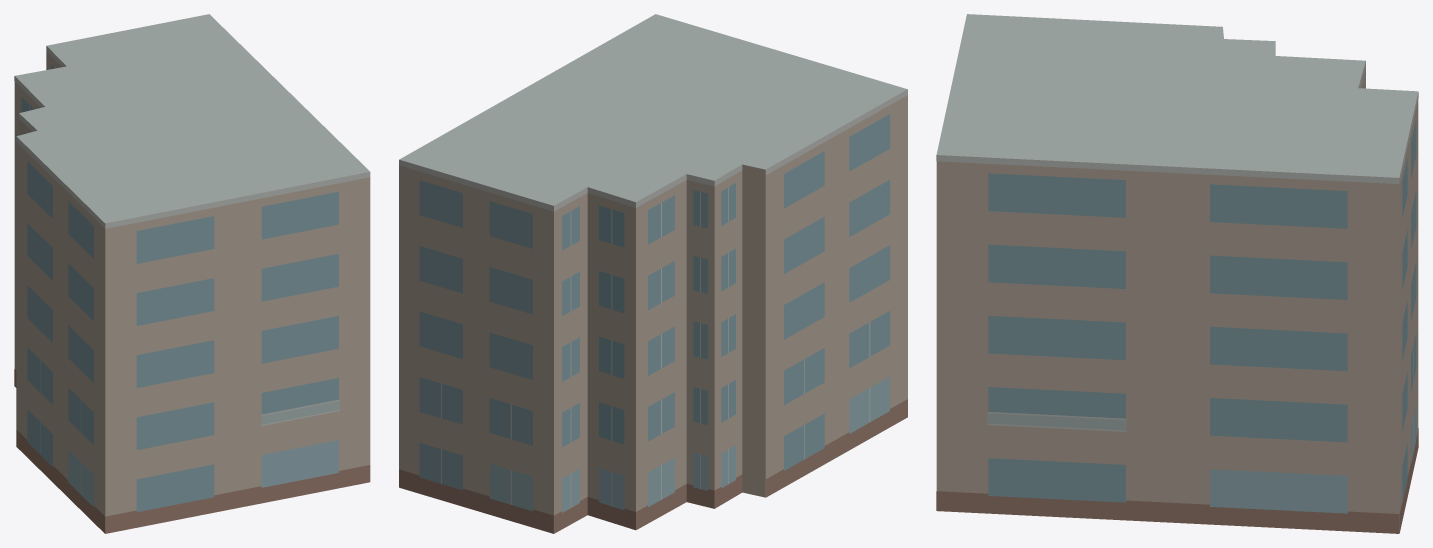
The model's file is survey-upis-32566565.glb.
3 views of the same model, side by side, from view 1: azimuth 30°, elevation 25°; view 2: azimuth 150°, elevation 25°; view 3: azimuth 270°, elevation 25° (orthographic). The views are drawn at different scales.
Parts seen in each view (by area): view 1: survey-upis-32566565.tmp; view 2: survey-upis-32566565.tmp; view 3: survey-upis-32566565.tmp.
Part boxes in pixels (bbox=[...]): survey-upis-32566565.tmp: bbox=[14, 14, 370, 533]; survey-upis-32566565.tmp: bbox=[399, 14, 907, 533]; survey-upis-32566565.tmp: bbox=[936, 14, 1418, 533].
Bounding box in the file's own units: 13.73 × 13.9 × 17.07.
